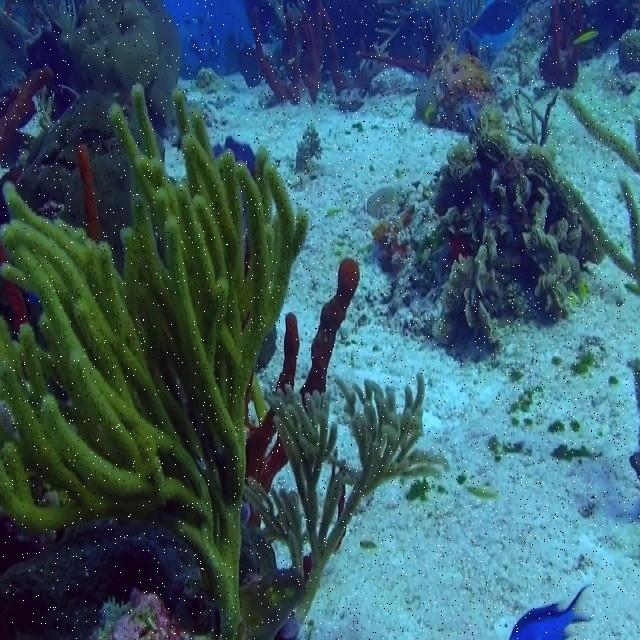fish: (510, 583, 591, 638)
reefs: (1, 83, 309, 639), (370, 104, 605, 347), (244, 372, 449, 624), (556, 167, 639, 296), (300, 259, 360, 391), (563, 91, 639, 172), (244, 404, 290, 489), (79, 145, 101, 240), (276, 314, 301, 389)
